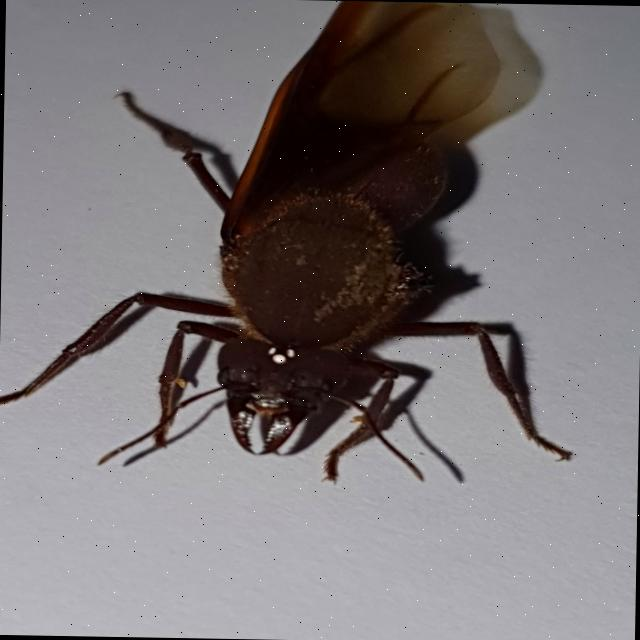Alive-Female-Alate: (0, 0, 580, 489)
